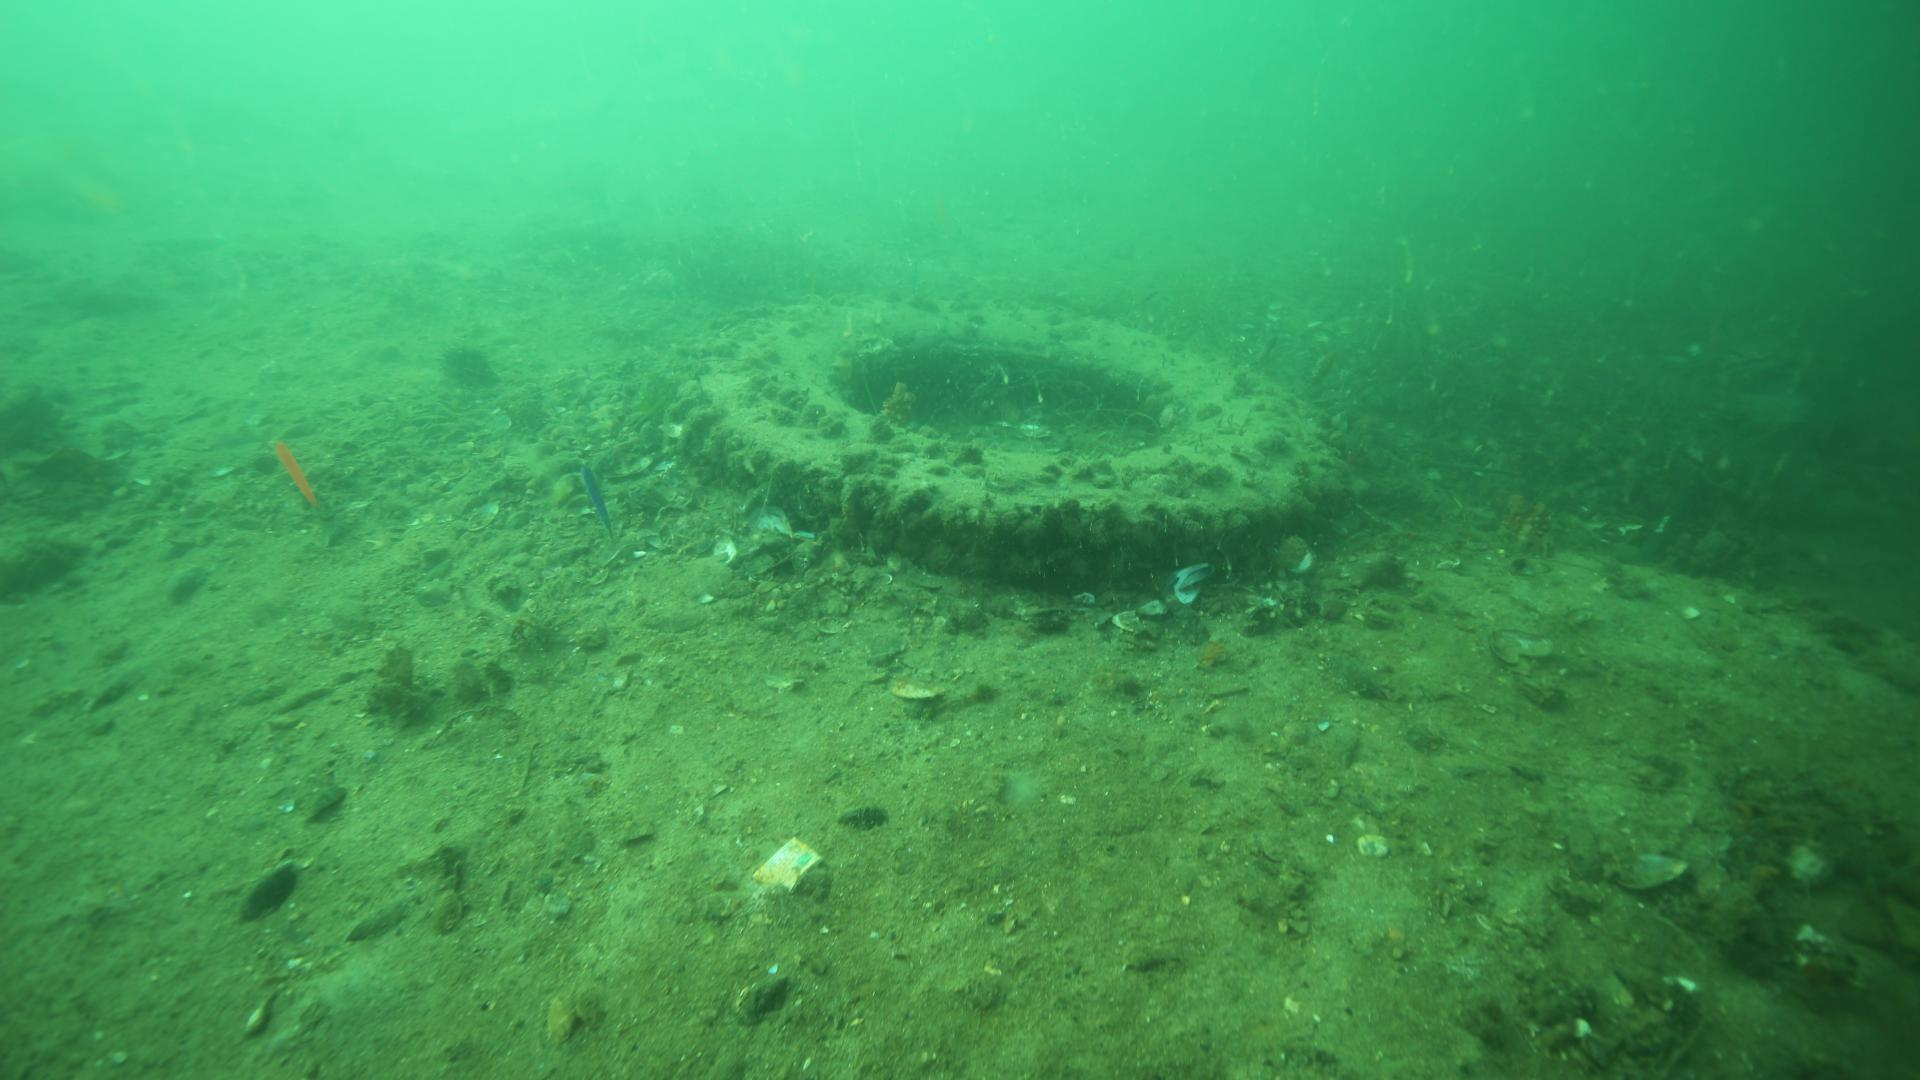tire: (669, 284, 1336, 612)
